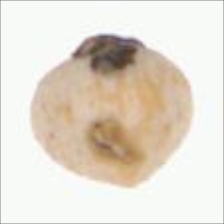L5: (64, 29, 154, 78), (91, 163, 166, 191)
L6: (26, 34, 196, 191)
